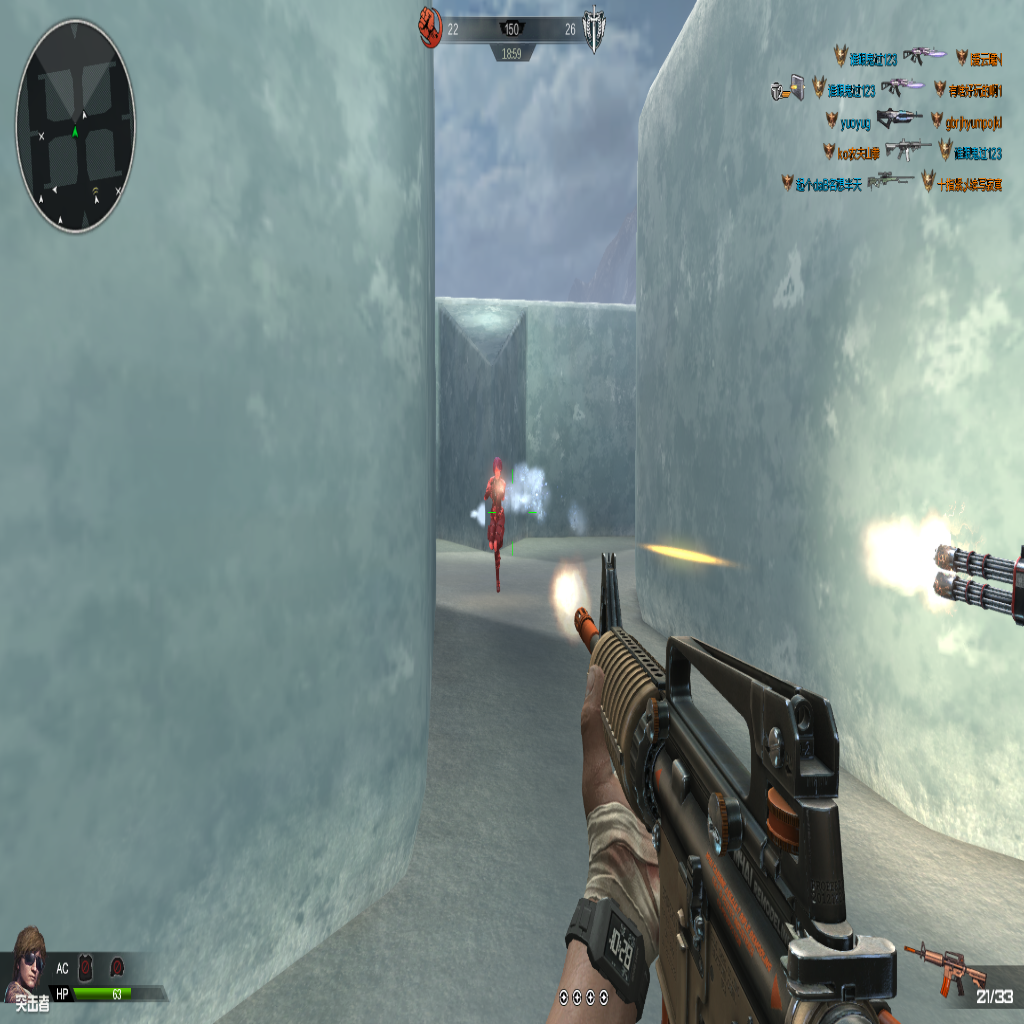ct: (481, 451, 507, 589)
